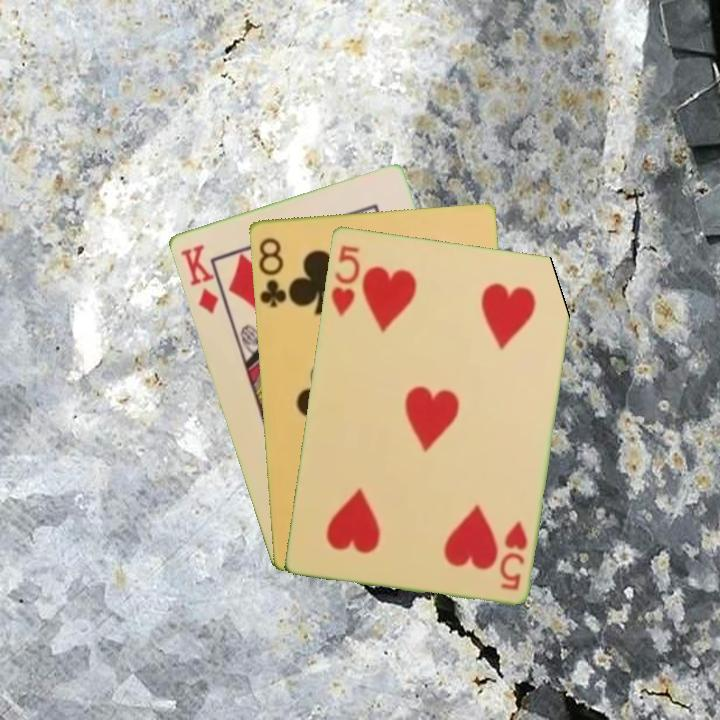5h: (327, 241, 363, 319), (495, 517, 530, 593)
8c: (254, 234, 291, 311)
Kd: (176, 240, 221, 317)
